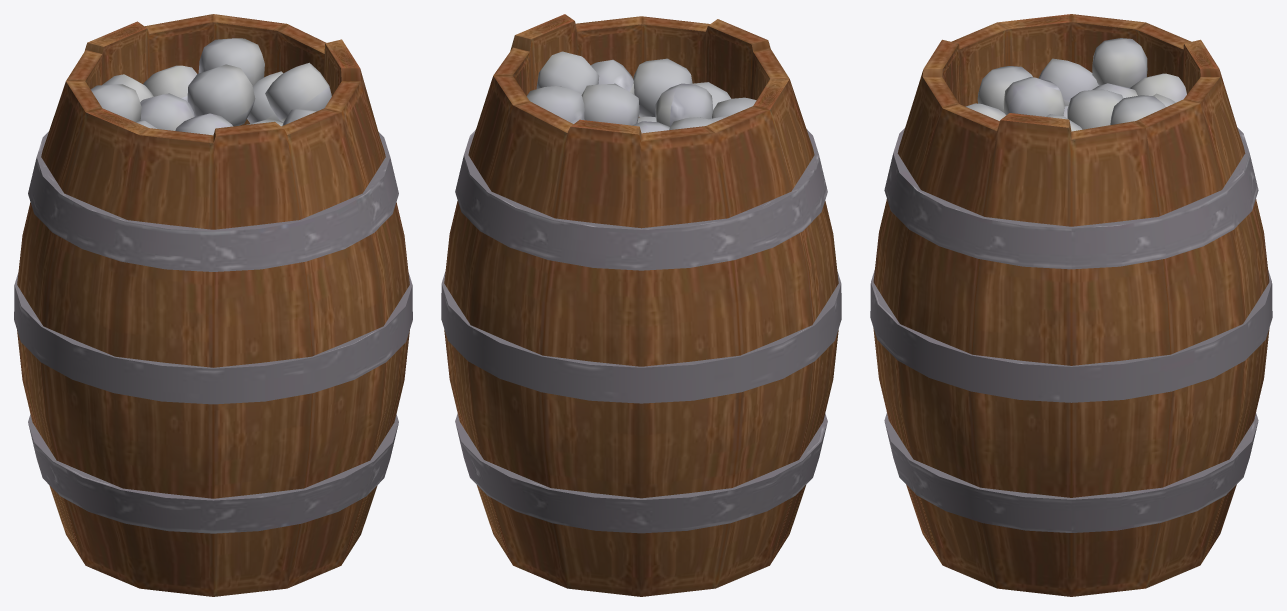
Rendered from barrel-qp-barrelapples.glb.
3 views of the same model, side by side, from view 1: azimuth 30°, elevation 25°; view 2: azimuth 150°, elevation 25°; view 3: azimuth 270°, elevation 25° (orthographic).
Visible parts, largest first — view 1: Cylinder_054; view 2: Cylinder_054; view 3: Cylinder_054.
Part boxes in pixels (box(x1,y1,x2,y2)): Cylinder_054: box(14, 14, 412, 596); Cylinder_054: box(441, 14, 841, 596); Cylinder_054: box(870, 14, 1272, 596).
Size of the model in its own units: 0.698 by 0.898 by 0.698.
Materials: 3 (3 with a texture image).
